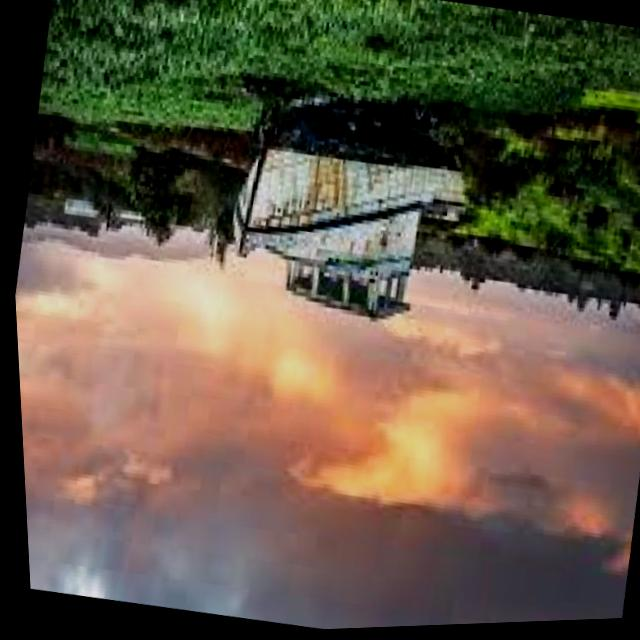ship2: (231, 102, 464, 324)
